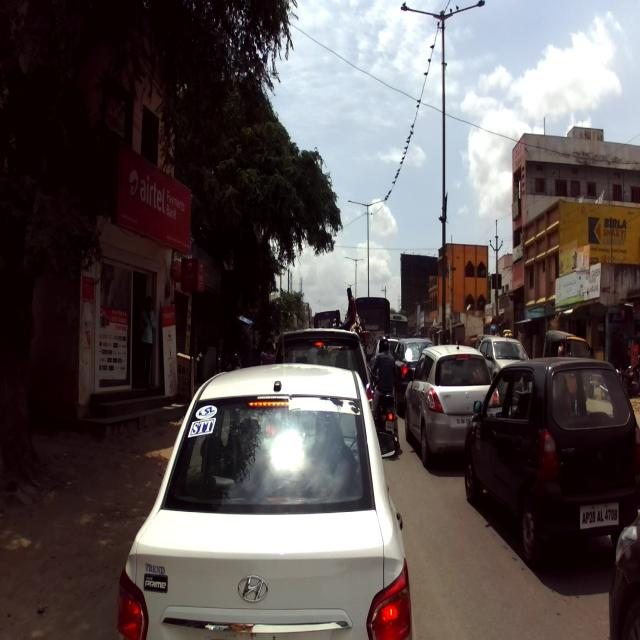Car_Hyundai: (116, 358, 412, 640)
Car_Maruti-Suzuki: (463, 356, 640, 574), (403, 343, 492, 468)
Car_Toyota: (273, 325, 371, 417)
motorcycle_RoyalEnfield: (367, 367, 398, 454)
